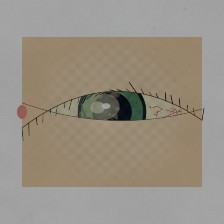corneal_ulcer: (71, 83, 131, 131)
